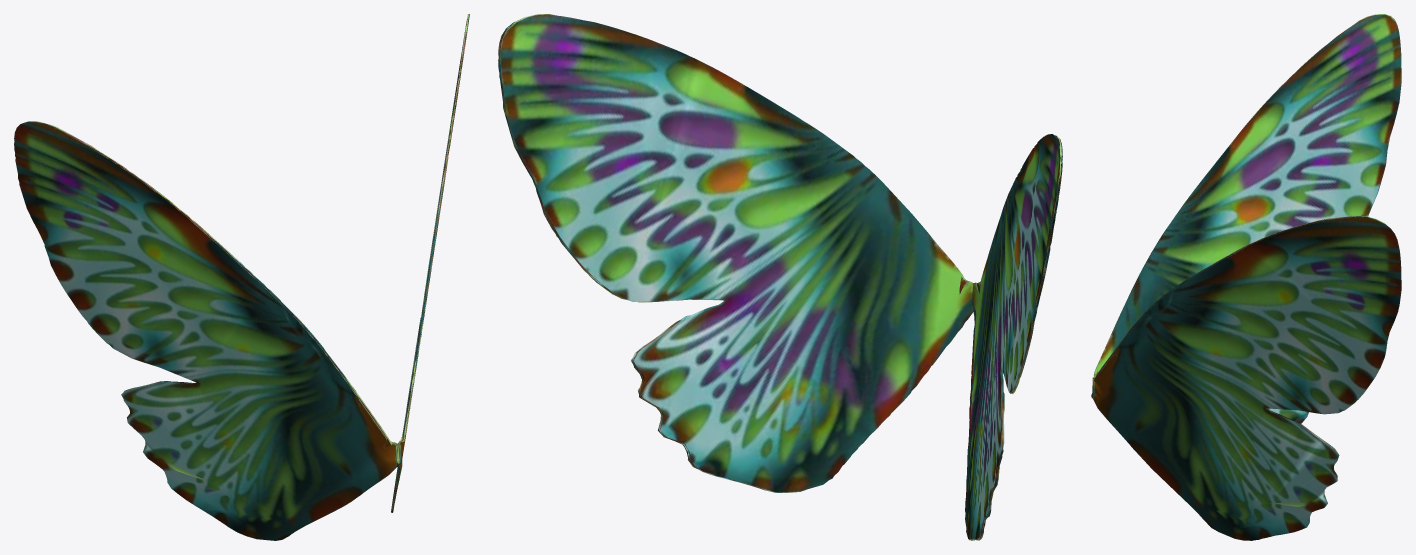
The model's file is butterflywings-lite.glb.
The picture shows the model from 3 angles, left to right: view 1: azimuth 30°, elevation 25°; view 2: azimuth 150°, elevation 25°; view 3: azimuth 270°, elevation 25°; orthographic projection. The views are drawn at different scales.
Parts seen in each view (by area): view 1: butterflywings; view 2: butterflywings; view 3: butterflywings.
Part boxes in pixels (x1,y1,x2,y2): butterflywings: (14, 14, 469, 540); butterflywings: (498, 14, 1062, 540); butterflywings: (1091, 14, 1401, 540).
Bounding box in the file's own units: 1.16 × 0.9816 × 0.709.
1 material, 1 textured.
